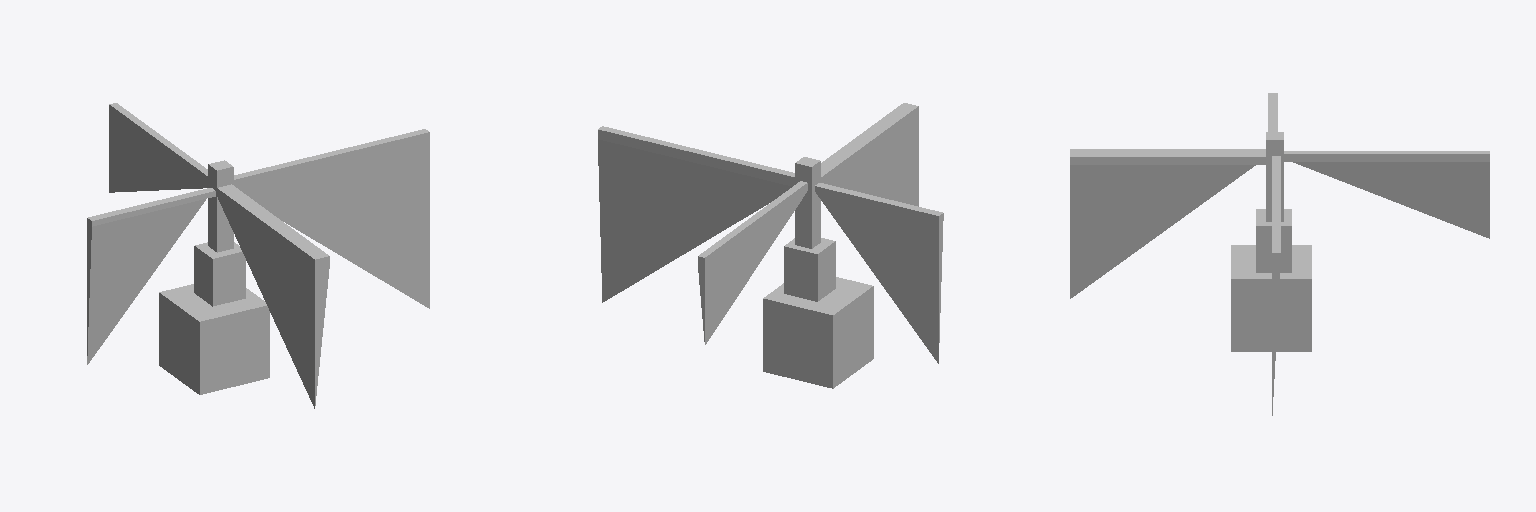
Rendered from something2.obj.
The picture shows the model from 3 angles: view 1: azimuth 30°, elevation 25°; view 2: azimuth 150°, elevation 25°; view 3: azimuth 270°, elevation 25°; orthographic projection.
Visible parts, largest first — view 1: Cube; view 2: Cube; view 3: Cube.
Part boxes in pixels (left/top/right/bottom): Cube: left=87, top=103, right=429, bottom=408; Cube: left=598, top=103, right=943, bottom=388; Cube: left=1070, top=93, right=1489, bottom=415.
Size of the model in its own units: 9.69 by 5.53 by 10.37.